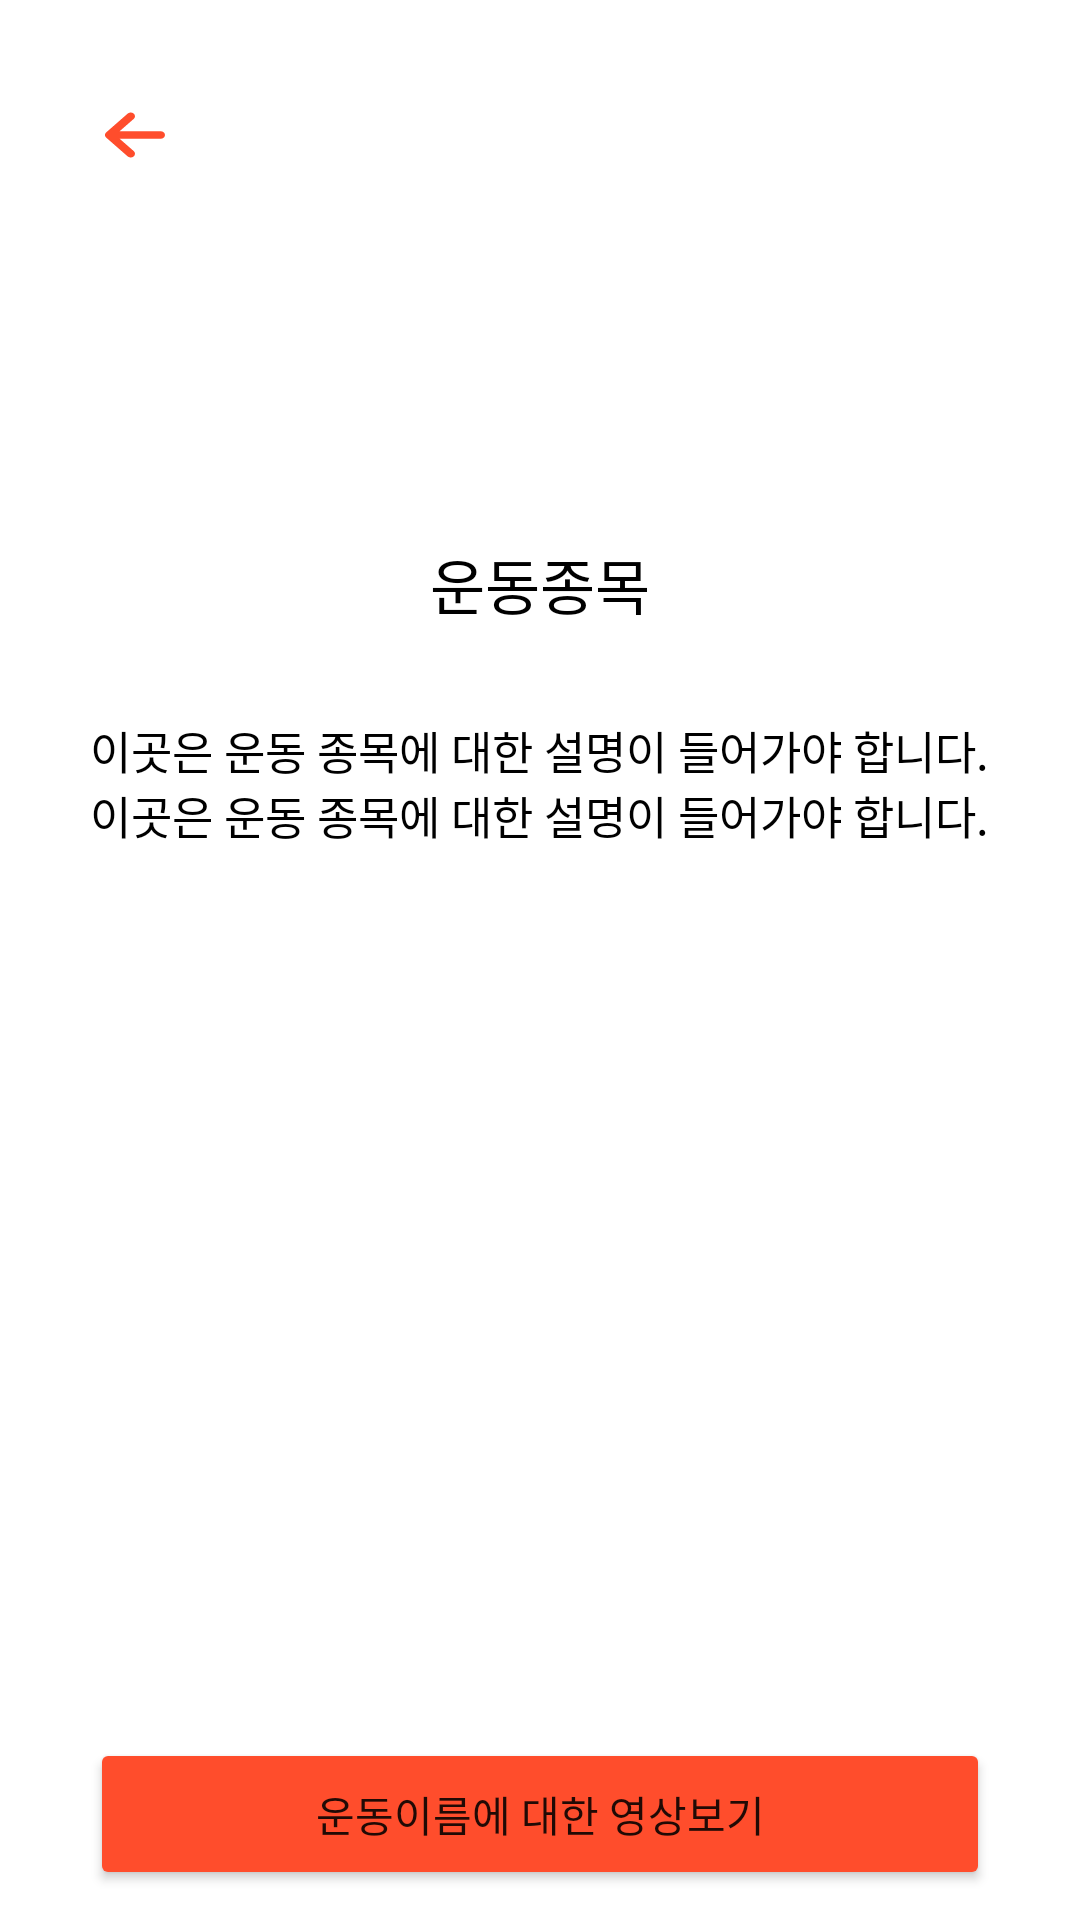

Screen size 1080*1920. Icon name, then its center in pixels as [x,y]:
back key: [135,135]
